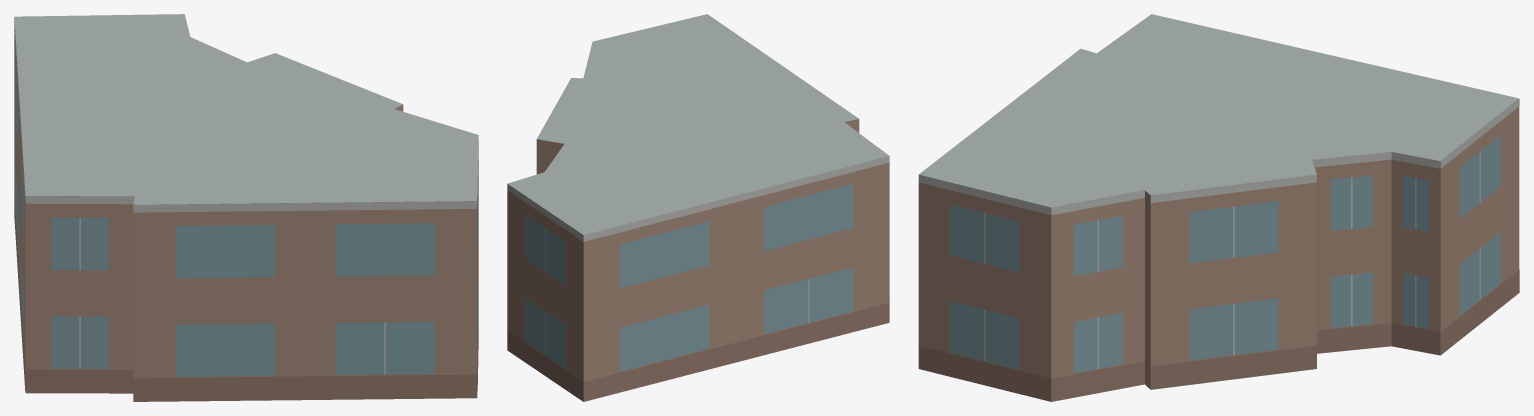
Rendered from survey-upis-32952523.glb.
The picture shows the model from 3 angles, left to right: view 1: azimuth 30°, elevation 25°; view 2: azimuth 150°, elevation 25°; view 3: azimuth 270°, elevation 25°; orthographic projection. The views are drawn at different scales.
Visible parts, largest first — view 1: survey-upis-32952523.tmp; view 2: survey-upis-32952523.tmp; view 3: survey-upis-32952523.tmp.
Boxes of the visible parts, x1,y1,x2,y2 form: survey-upis-32952523.tmp: [14, 14, 478, 401]; survey-upis-32952523.tmp: [507, 14, 889, 401]; survey-upis-32952523.tmp: [918, 14, 1519, 401].
Bounding box in the file's own units: 13.04 × 6.1 × 17.1.
